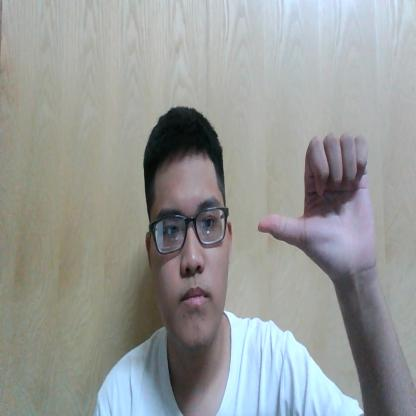right: (258, 132, 378, 268)
